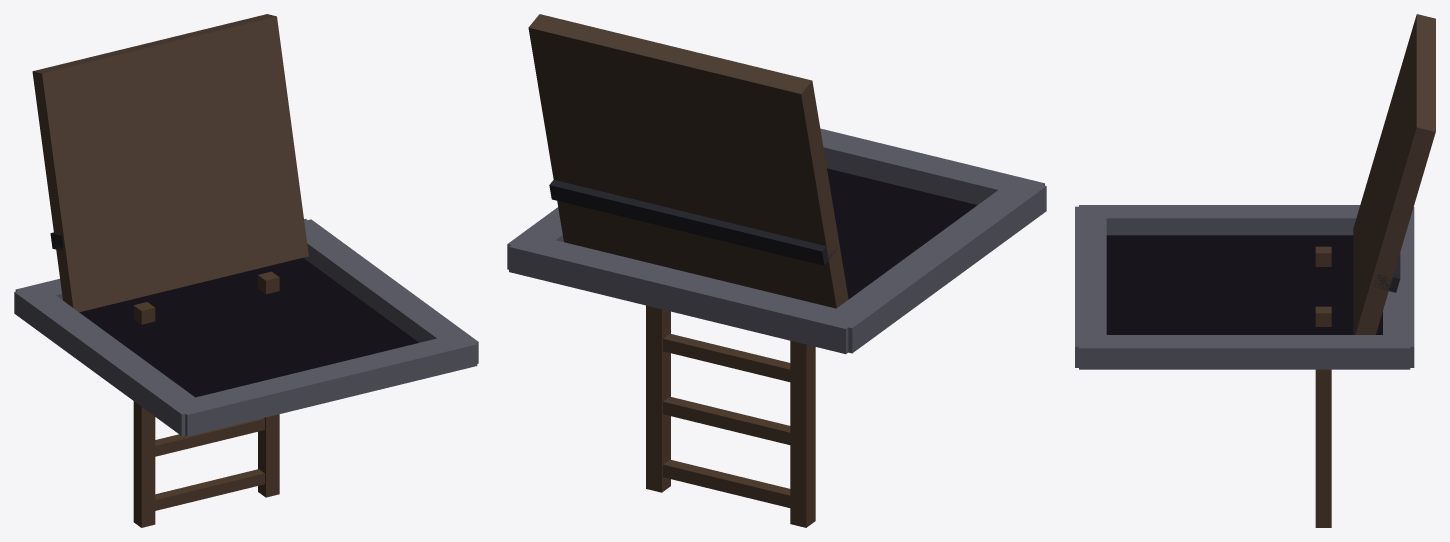
Rendered from roof_hatch.glb.
The picture shows the model from 3 angles, left to right: view 1: azimuth 30°, elevation 25°; view 2: azimuth 150°, elevation 25°; view 3: azimuth 270°, elevation 25°; orthographic projection. The views are drawn at different scales.
Parts seen in each view (by area): view 1: roof_hatch; view 2: roof_hatch; view 3: roof_hatch.
Part boxes in pixels (left/top/right/bottom): roof_hatch: left=14, top=14, right=478, bottom=527; roof_hatch: left=507, top=14, right=1046, bottom=527; roof_hatch: left=1075, top=14, right=1435, bottom=527.
Size of the model in its own units: 0.86 by 1.19 by 0.9144.
